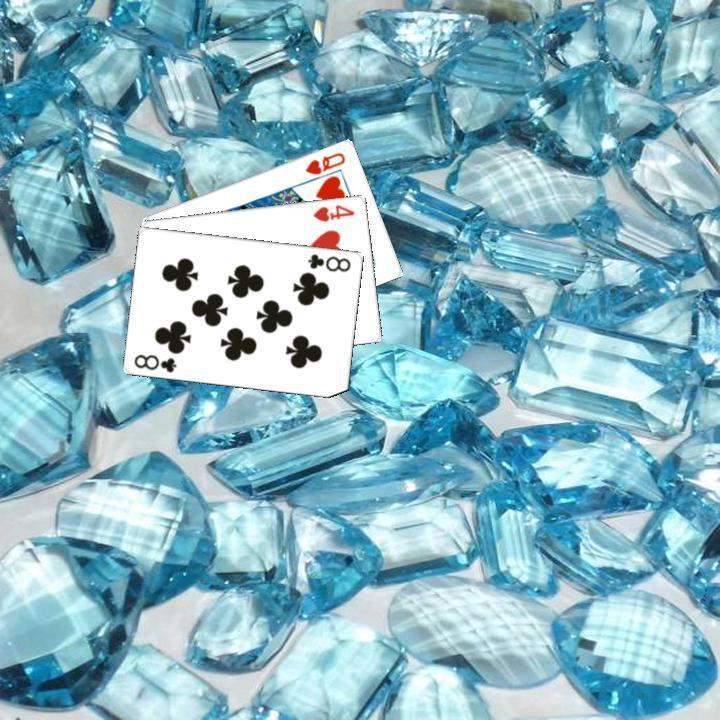4: (309, 200, 356, 223)
8: (304, 249, 353, 274), (130, 350, 179, 374)
Q: (301, 147, 348, 176)
